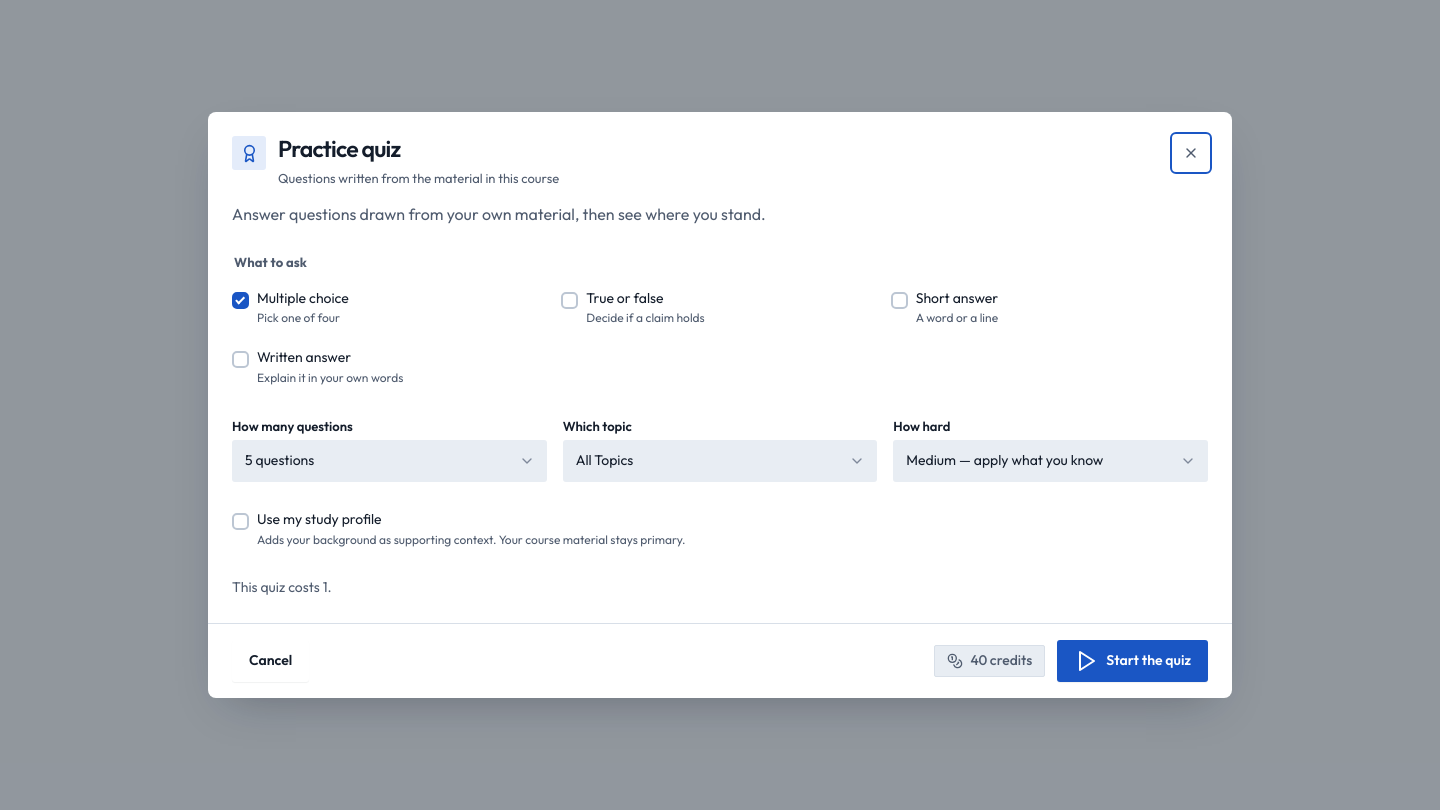
Scenario: what a quiz costs › prices a written-answer quiz higher, because grading is prepaid
Expected: the text "This quiz costs 1." is shown, [232,578,332,596]
Click the checkbox labelled "Written answer Explain it in your own words" at x=240, y=360, box [232,351,249,368]
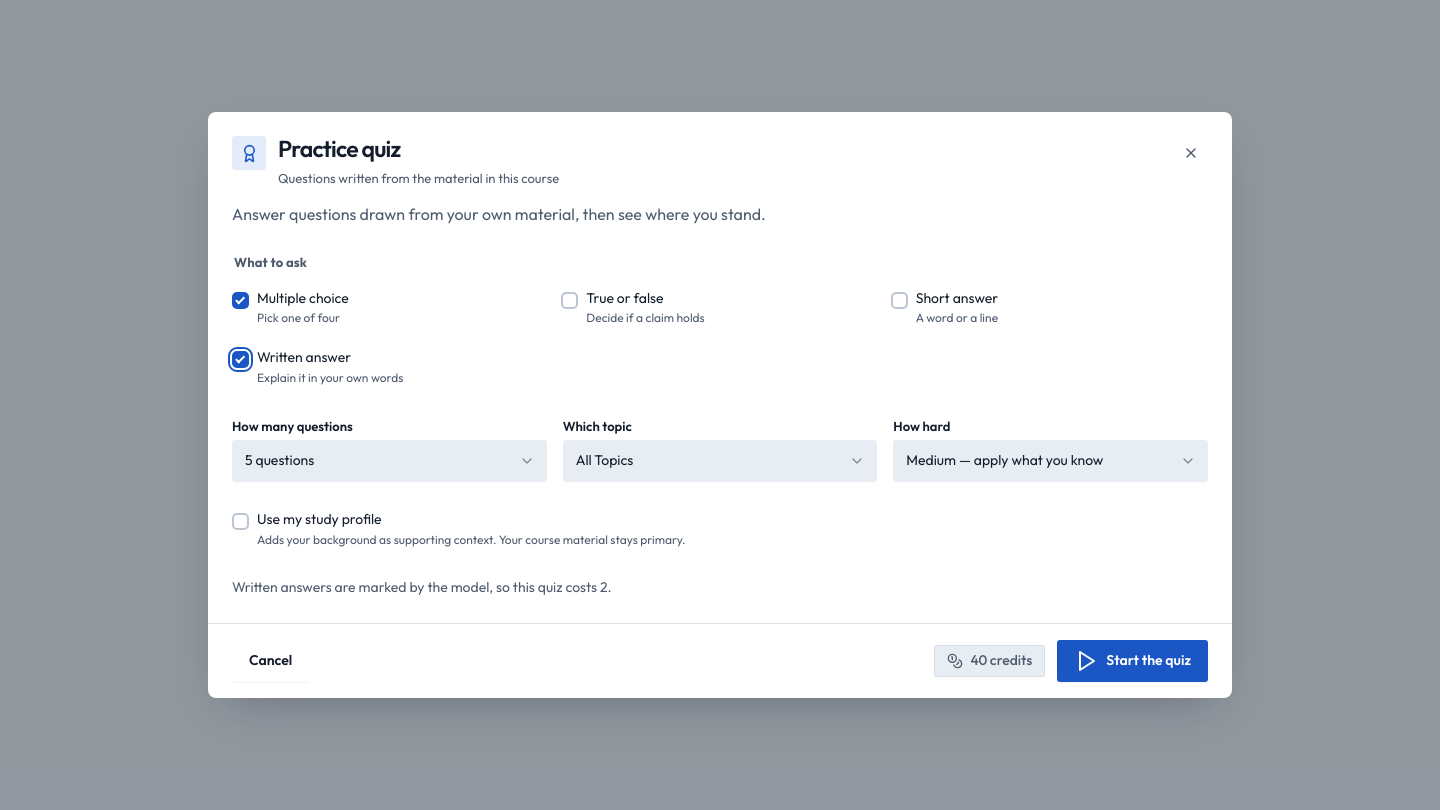
Result: the text "marked by the model, so this quiz costs 2." is shown at [232,578,612,596]
